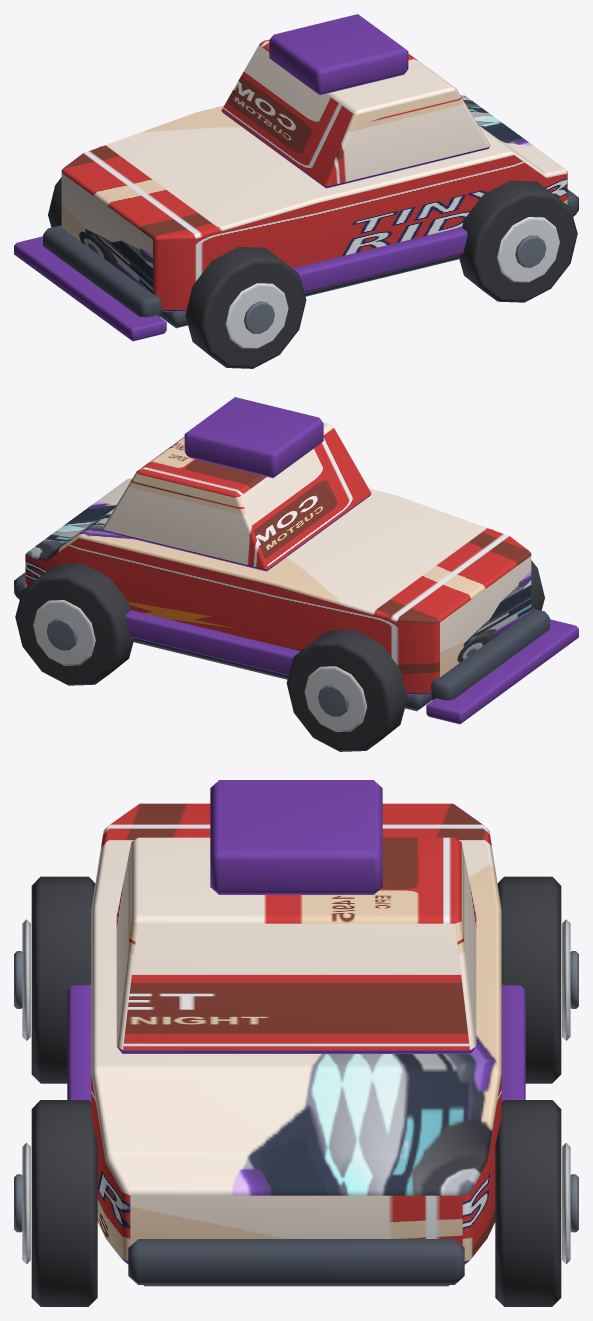
The picture shows the model from 3 angles, top to bottom: view 1: azimuth 30°, elevation 25°; view 2: azimuth 150°, elevation 25°; view 3: azimuth 270°, elevation 25°; orthographic projection. The views are drawn at different scales.
Visible parts, largest first — view 1: RR-05_connected_shell, RR-05_cabin, Tire, Tire.002, custom equipment, custom side guard, custom chin, front bumper, Rim.002, Rim, underbody, Hub.002 (+2 smaller); view 2: RR-05_connected_shell, RR-05_cabin, Tire.001, Tire.003, custom equipment, custom side guard.001, custom chin, front bumper, Rim.003, Rim.001, underbody, Hub.003 (+2 smaller); view 3: RR-05_connected_shell, RR-05_cabin, custom equipment, rear bumper, Tire.002, Tire.003, Tire, Tire.001, custom side guard, custom side guard.001, Rim.002, Rim.003 (+2 smaller).
Part boxes in pixels (bbox=[...]): RR-05_connected_shell: bbox=[61, 95, 567, 311]; RR-05_cabin: bbox=[221, 39, 490, 188]; Tire: bbox=[185, 247, 306, 368]; Tire.002: bbox=[458, 180, 577, 302]; custom equipment: bbox=[269, 14, 408, 95]; custom side guard: bbox=[292, 227, 467, 292]; custom chin: bbox=[14, 236, 166, 341]; front bumper: bbox=[43, 225, 162, 317]; Rim.002: bbox=[497, 217, 559, 282]; Rim: bbox=[225, 283, 288, 348]; underbody: bbox=[160, 255, 459, 328]; Hub.002: bbox=[515, 235, 546, 267]; RR-05_connected_shell: bbox=[25, 478, 531, 694]; RR-05_cabin: bbox=[102, 422, 371, 571]; Tire.001: bbox=[286, 630, 407, 751]; Tire.003: bbox=[15, 563, 134, 685]; custom equipment: bbox=[184, 397, 323, 478]; custom side guard.001: bbox=[125, 610, 300, 675]; custom chin: bbox=[426, 619, 578, 724]; front bumper: bbox=[430, 608, 549, 700]; Rim.003: bbox=[33, 600, 95, 665]; Rim.001: bbox=[304, 666, 367, 731]; underbody: bbox=[133, 638, 432, 711]; Hub.003: bbox=[46, 618, 77, 650]; RR-05_connected_shell: bbox=[91, 803, 501, 1264]; RR-05_cabin: bbox=[116, 837, 476, 1053]; custom equipment: bbox=[210, 780, 382, 894]; rear bumper: bbox=[128, 1239, 464, 1284]; Tire.002: bbox=[31, 1100, 97, 1306]; Tire.003: bbox=[495, 1100, 561, 1306]; Tire: bbox=[31, 876, 95, 1083]; Tire.001: bbox=[497, 876, 561, 1083]; custom side guard: bbox=[67, 984, 91, 1101]; custom side guard.001: bbox=[501, 984, 525, 1101]; Rim.002: bbox=[22, 1142, 30, 1264]; Rim.003: bbox=[562, 1142, 570, 1264].
Bounding box in the file's own units: 353 × 171 × 223.
